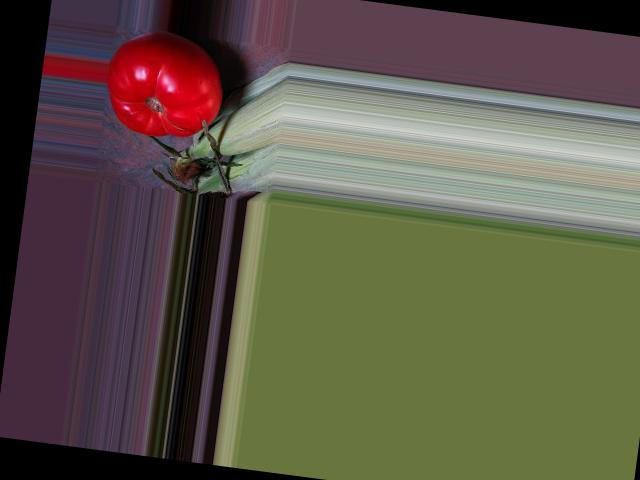tomato: (101, 25, 229, 144)
